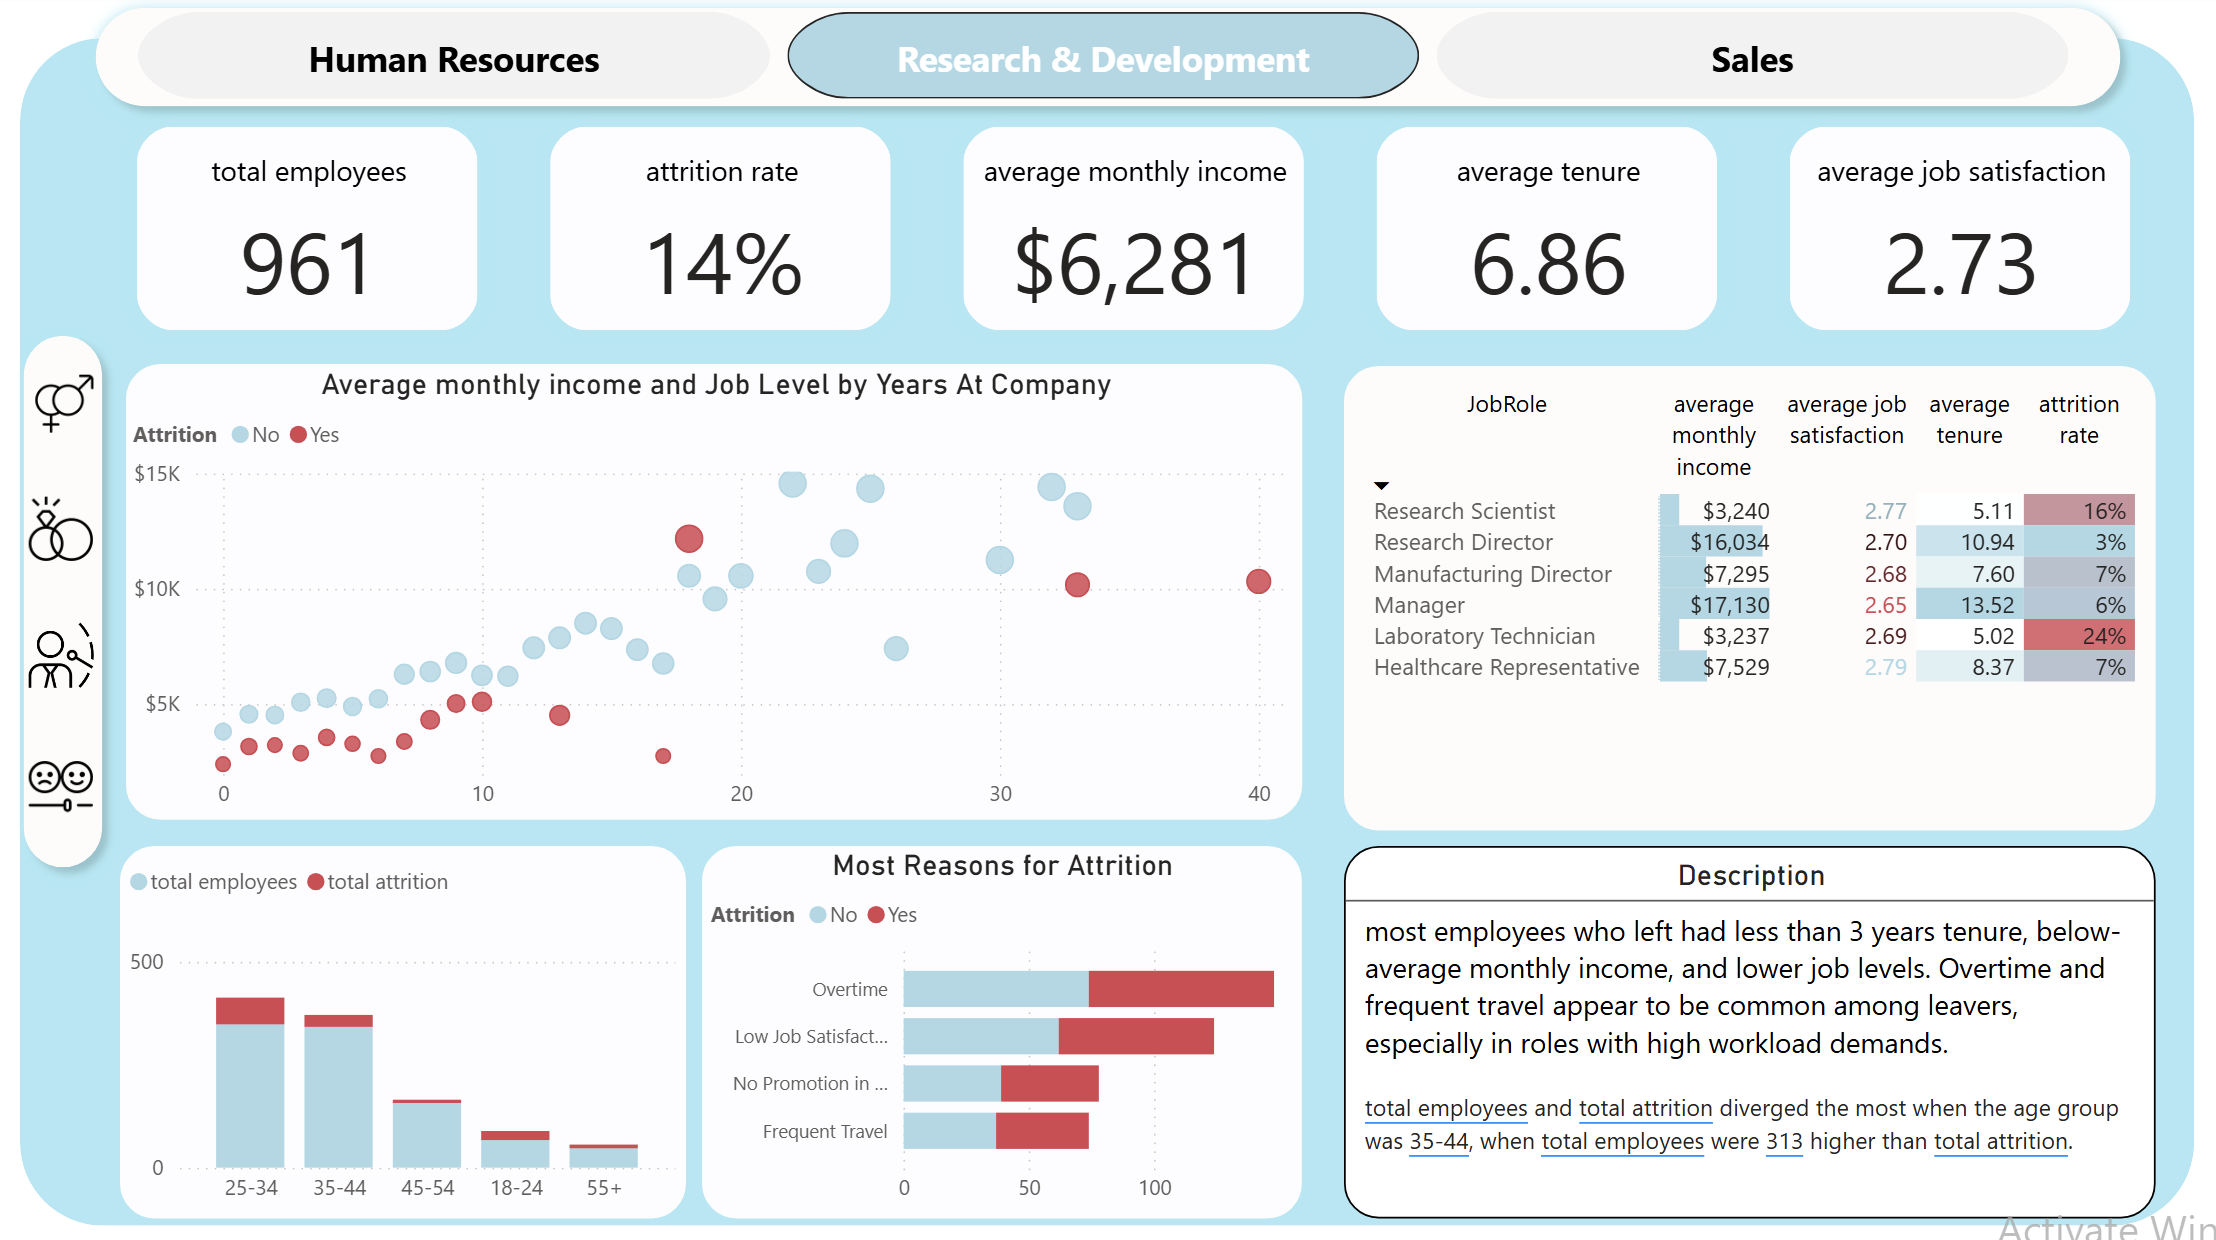

The dashboard page shown, as its layout file describes it:
{"tool":"powerbi","page":{"name":"Page 1","canvas":[1280,720],"ordinal":0},"visuals":[{"type":"shape","box":[13.2,26.4,1252.3,684.2],"z":0},{"type":"shape","box":[5.3,188.5,63.3,324.3],"z":1000},{"type":"shape","box":[47.2,0,1184.3,74.9],"z":2000},{"type":"cardVisual","fields":{"Data":["Table.total employees","Table.attrition rate","Table.average monthly income","Table.average tenure","Table.average job satisfaction"]},"box":[69.1,65.7,1173.9,140.5],"z":3000},{"type":"barChart","title":"Most Reasons for Attrition","fields":{"Series":["ibm_hr.Attrition"],"Category":["Reasons.Reason"],"Y":["ibm_hr.Reason Status Count"]},"box":[405.5,491.9,345.6,214.3],"z":4000},{"type":"columnChart","fields":{"Y":["Table.total employees","Table.total attrition"],"Category":["ibm_hr.age group"]},"box":[70.3,491.9,326,214.3],"z":5000},{"type":"scatterChart","title":"Average monthly income and Job Level by Years At Company","fields":{"X":["ibm_hr.YearsAtCompany"],"Y":["Table.average monthly income"],"Size":["Avg(ibm_hr.JobLevel)"],"Series":["ibm_hr.Attrition"]},"box":[73.7,214.3,677.4,262.7],"z":6000},{"type":"pivotTable","fields":{"Rows":["ibm_hr.JobRole"],"Values":["Table.average monthly income","Table.average job satisfaction","Table.average tenure","Table.attrition rate"]},"box":[775.3,215.4,467.7,267.3],"z":7000},{"type":"textbox","title":"Description","box":[775.3,491.9,467.7,214.3],"z":8000},{"type":"advancedSlicerVisual","fields":{"Values":["ibm_hr.Department"]},"box":[80.6,11.5,1112.8,50.7],"z":9000},{"type":"image","box":[14.6,215.5,47,43.7],"z":10000},{"type":"image","box":[13,285.2,47,47],"z":11000},{"type":"image","box":[13.2,358.6,47.5,47.5],"z":12000},{"type":"image","box":[13,431,47,51.8],"z":13000}]}

Visuals, with their boxes in screenshot pixels (x1, y1, x2, y2), scaled from the page's 1280x720 canvas onto the 2216x1240 screenshot:
shape: {"x1": 23, "y1": 45, "x2": 2191, "y2": 1224}
shape: {"x1": 9, "y1": 325, "x2": 119, "y2": 883}
shape: {"x1": 82, "y1": 0, "x2": 2132, "y2": 129}
cardVisual - Table.total employees x Table.attrition rate: {"x1": 120, "y1": 113, "x2": 2152, "y2": 355}
"Most Reasons for Attrition" barChart: {"x1": 702, "y1": 847, "x2": 1300, "y2": 1216}
columnChart - Table.total employees x Table.total attrition: {"x1": 122, "y1": 847, "x2": 686, "y2": 1216}
"Average monthly income and Job Level by Years At Company" scatterChart: {"x1": 128, "y1": 369, "x2": 1300, "y2": 822}
pivotTable - ibm_hr.JobRole x Table.average monthly income: {"x1": 1342, "y1": 371, "x2": 2152, "y2": 831}
"Description" textbox: {"x1": 1342, "y1": 847, "x2": 2152, "y2": 1216}
advancedSlicerVisual - ibm_hr.Department: {"x1": 140, "y1": 20, "x2": 2066, "y2": 107}
image: {"x1": 25, "y1": 371, "x2": 107, "y2": 446}
image: {"x1": 23, "y1": 491, "x2": 104, "y2": 572}
image: {"x1": 23, "y1": 618, "x2": 105, "y2": 699}
image: {"x1": 23, "y1": 742, "x2": 104, "y2": 831}
